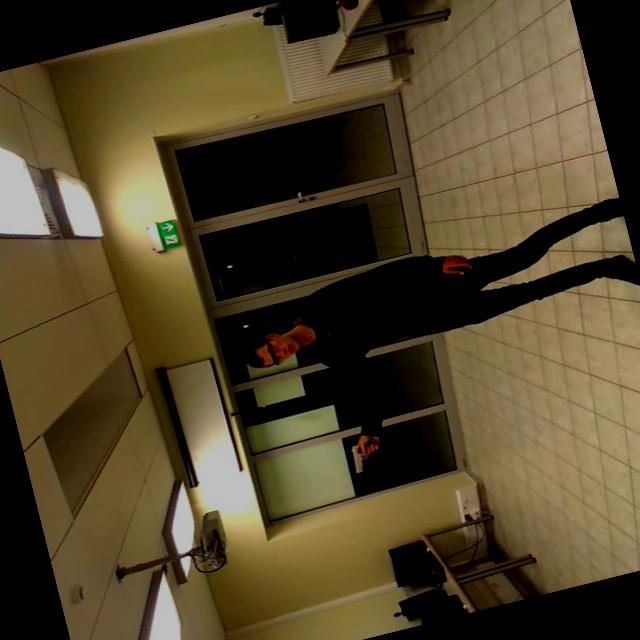handgun: (327, 430, 387, 488)
